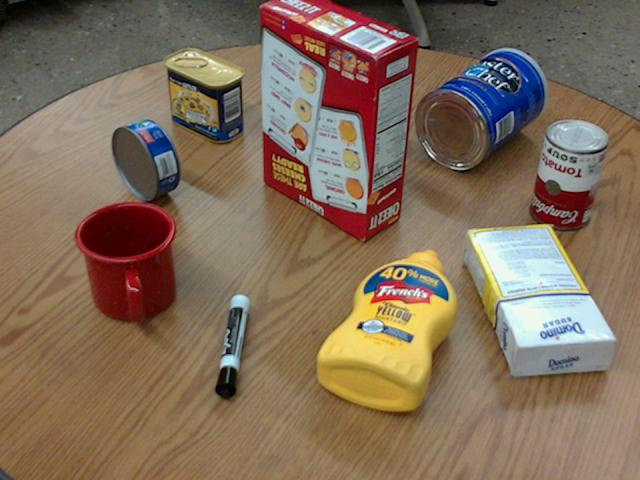cracker_box: (260, 0, 417, 238)
gelatin_box: (301, 62, 385, 119)
large_marker: (213, 293, 247, 398)
master_chef_can: (414, 48, 545, 168)
mug: (74, 201, 176, 322)
mustard_bottle: (315, 249, 456, 412)
potted_meat_can: (162, 49, 243, 142)
sugar_box: (461, 225, 617, 374)
tomato_soup_can: (528, 117, 607, 227)
tuna_fish_can: (112, 119, 179, 200)
